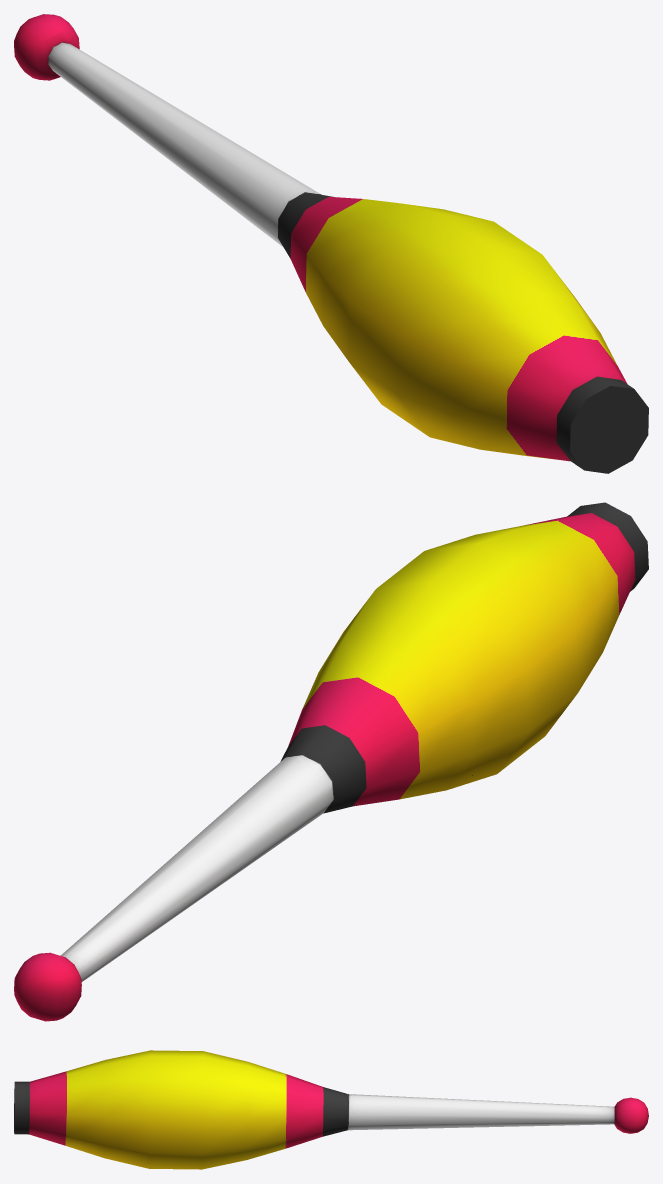
The model's file is skittle.fbx.
3 renders of one model, top to bottom at view 1: azimuth 30°, elevation 25°; view 2: azimuth 150°, elevation 25°; view 3: azimuth 270°, elevation 25°, orthographic. The views are drawn at different scales.
Parts seen in each view (by area): view 1: skittle; view 2: skittle; view 3: skittle.
Boxes of the visible parts, x1,y1,x2,y2 form: skittle: (14, 14, 648, 473); skittle: (14, 502, 648, 1021); skittle: (14, 1050, 648, 1169).
Size of the model in its own units: 0.0408 by 0.0426 by 0.2238.
